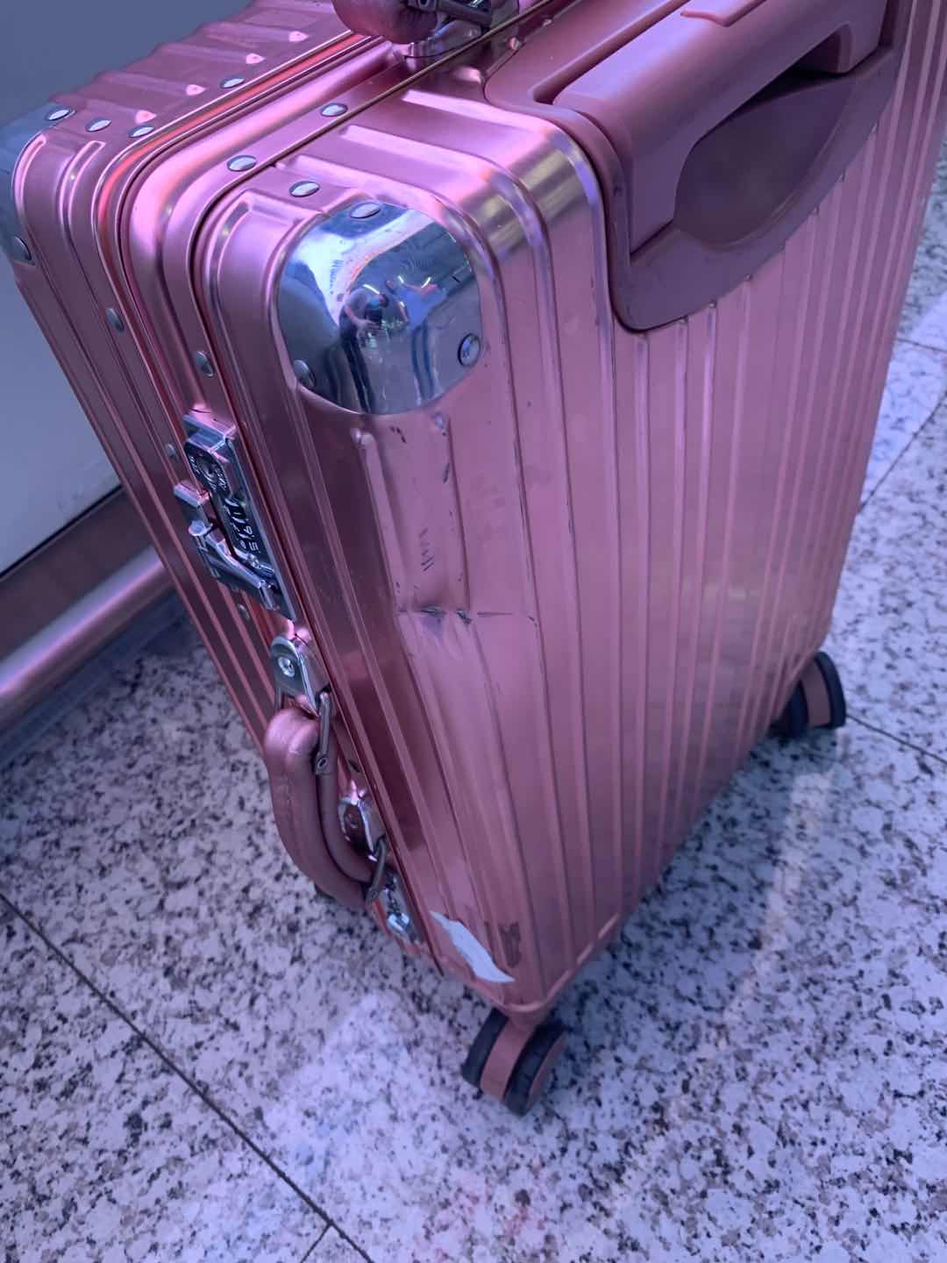rupture: (390, 566, 549, 712)
